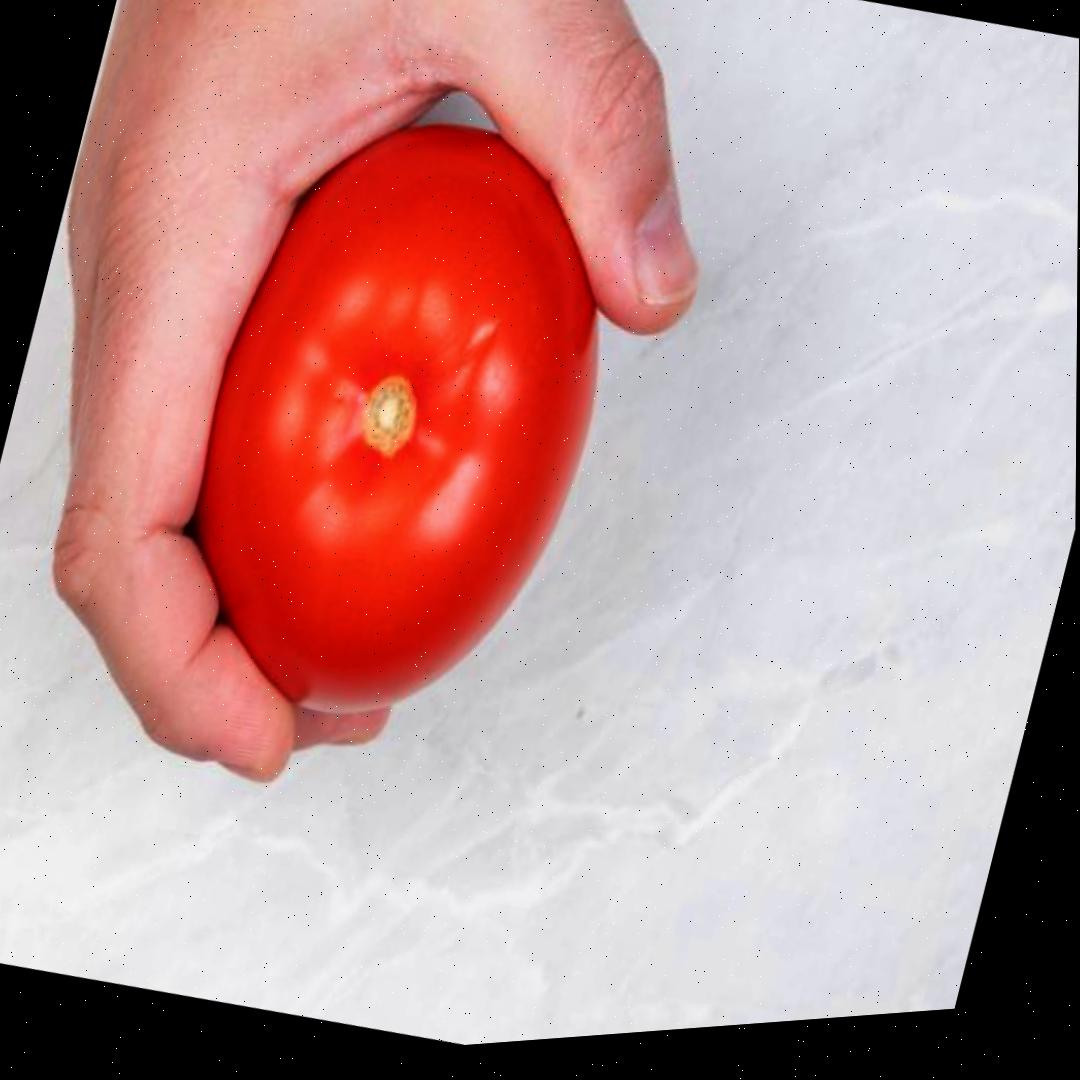matang: (137, 66, 658, 773)
